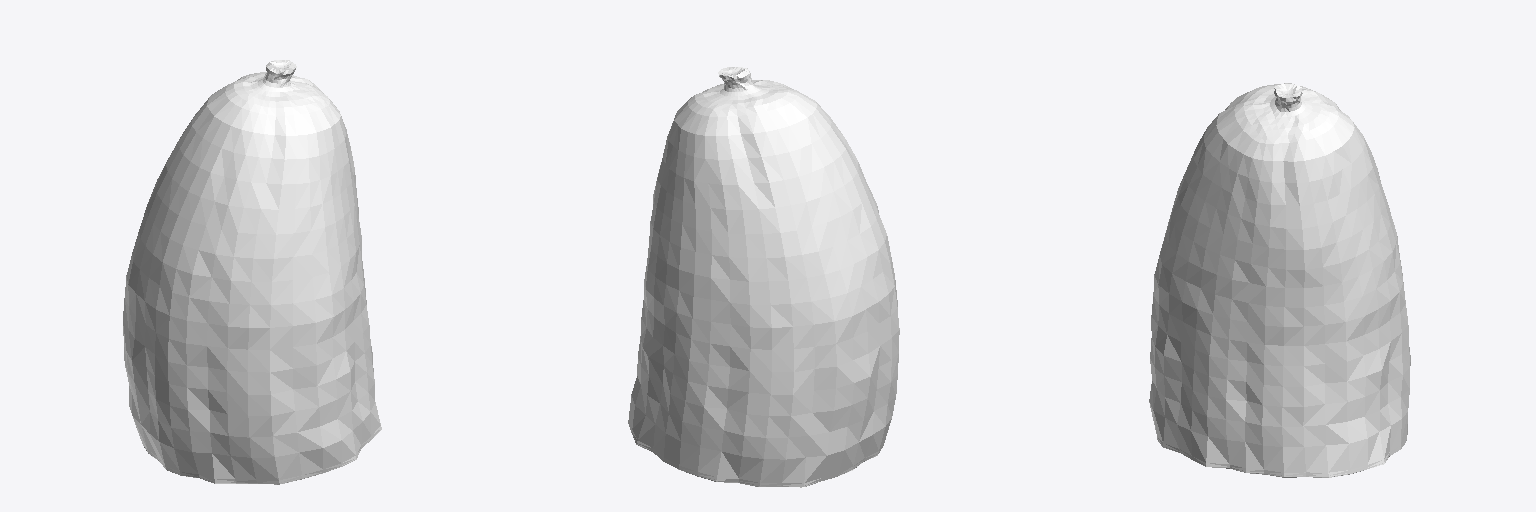
Rendered from sliced_cucumber.obj.
3 renders of one model, left to right at view 1: azimuth 30°, elevation 25°; view 2: azimuth 150°, elevation 25°; view 3: azimuth 270°, elevation 25°, orthographic.
Visible parts, largest first — view 1: cucumber_03_pivot; view 2: cucumber_03_pivot; view 3: cucumber_03_pivot.
Boxes of the visible parts, <box> form: cucumber_03_pivot: <box>123,60,381,484</box>; cucumber_03_pivot: <box>628,67,899,487</box>; cucumber_03_pivot: <box>1149,83,1410,477</box>.
Bounding box in the file's own units: 1.3 × 2 × 1.3.